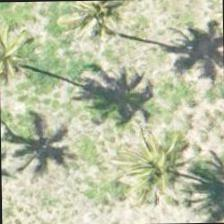Kelapa_Sawit: (123, 126, 215, 218), (0, 12, 76, 104), (81, 0, 173, 63)
